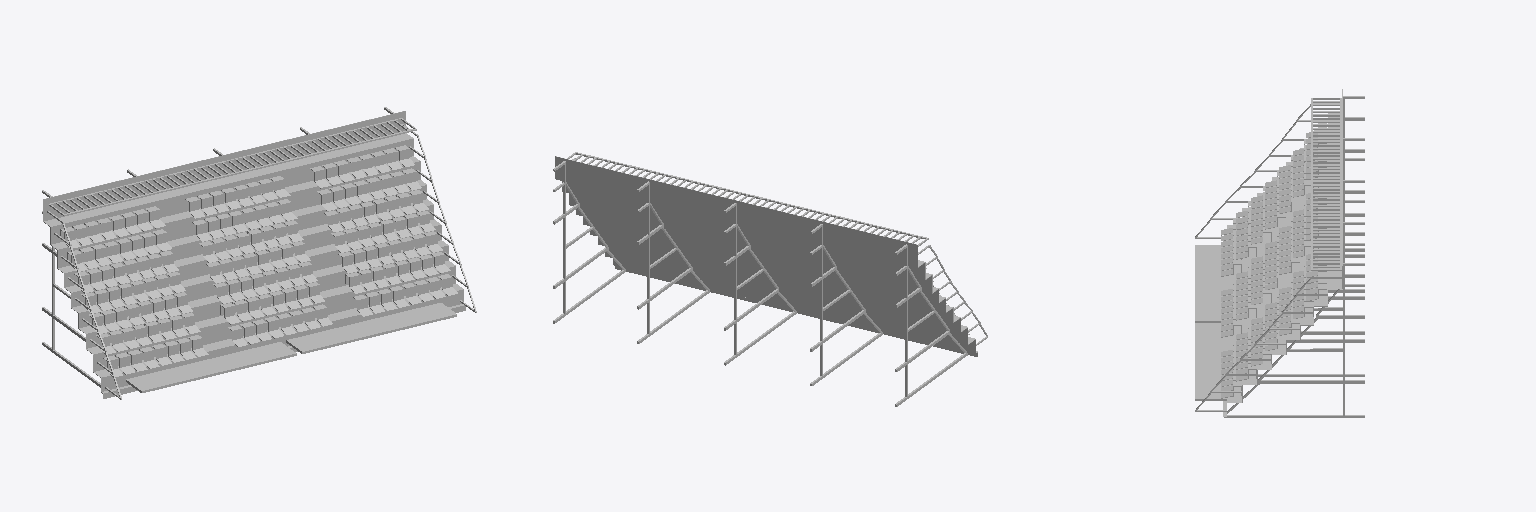
The model's file is CrowdSeat.obj.
3 renders of one model, left to right at view 1: azimuth 30°, elevation 25°; view 2: azimuth 150°, elevation 25°; view 3: azimuth 270°, elevation 25°, orthographic.
Visible parts, largest first — view 1: defaultMaterial.032, defaultMaterial.165, defaultMaterial.008, defaultMaterial.017, defaultMaterial.160, defaultMaterial.173, defaultMaterial.067; view 2: defaultMaterial.032, defaultMaterial.165, defaultMaterial.029, defaultMaterial.153, defaultMaterial.160, defaultMaterial.098, defaultMaterial.132; view 3: defaultMaterial.032, defaultMaterial.165, defaultMaterial.017, defaultMaterial.008, defaultMaterial.029, defaultMaterial.098, defaultMaterial.067, defaultMaterial.173, defaultMaterial.132.
Part boxes in pixels (left/top/right/bottom): defaultMaterial.032: left=43, top=111, right=465, bottom=398; defaultMaterial.165: left=49, top=118, right=416, bottom=216; defaultMaterial.008: left=286, top=303, right=456, bottom=353; defaultMaterial.017: left=126, top=342, right=296, bottom=392; defaultMaterial.160: left=42, top=190, right=100, bottom=387; defaultMaterial.173: left=47, top=211, right=121, bottom=399; defaultMaterial.067: left=402, top=124, right=476, bottom=312; defaultMaterial.032: left=555, top=156, right=977, bottom=356; defaultMaterial.165: left=567, top=152, right=928, bottom=246; defaultMaterial.029: left=553, top=161, right=625, bottom=323; defaultMaterial.153: left=810, top=224, right=882, bottom=385; defaultMaterial.160: left=895, top=244, right=967, bottom=406; defaultMaterial.098: left=637, top=181, right=709, bottom=343; defaultMaterial.132: left=724, top=203, right=796, bottom=365; defaultMaterial.032: left=1223, top=89, right=1342, bottom=416; defaultMaterial.165: left=1311, top=98, right=1341, bottom=270; defaultMaterial.017: left=1195, top=245, right=1226, bottom=322; defaultMaterial.008: left=1195, top=323, right=1226, bottom=400; defaultMaterial.029: left=1224, top=263, right=1364, bottom=417; defaultMaterial.098: left=1258, top=222, right=1364, bottom=376; defaultMaterial.067: left=1195, top=277, right=1341, bottom=411; defaultMaterial.173: left=1195, top=103, right=1339, bottom=238; defaultMaterial.132: left=1301, top=180, right=1364, bottom=334.
Bounding box in the file's own units: 68.73 × 28.3 × 28.01.